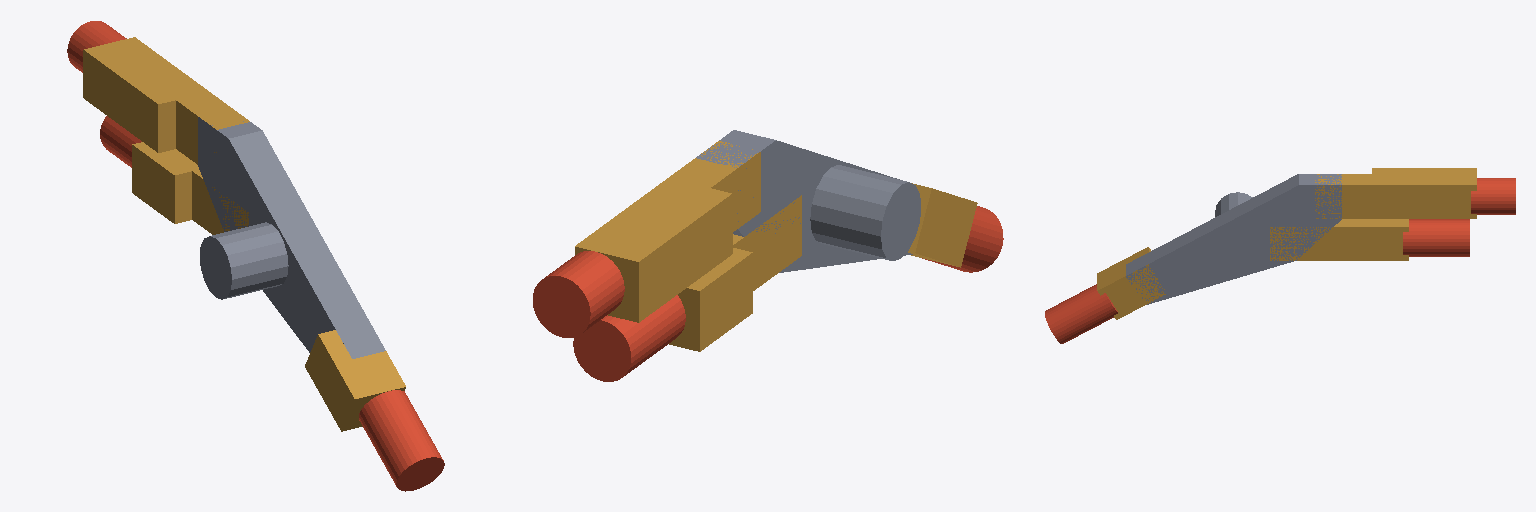
robot.urdf — g0050_c15:
<robot name="g0050_c15">
  <link name="palm">
    <visual name="palm_palm1">
      <origin xyz="0 0 0" rpy="0 0 0" />
      <geometry>
        <mesh filename="palm_palm1.obj" />
      </geometry>
      <material name="palm_palm1_mat">
        <color rgba="0.55 0.57 0.62 1" />
      </material>
    </visual>
    <collision>
      <origin xyz="0 0 0" rpy="0 0 0" />
      <geometry>
        <mesh filename="palm_palm1.obj" />
      </geometry>
    </collision>
    <visual name="palm_mount2">
      <origin xyz="0 0 0" rpy="0 0 0" />
      <geometry>
        <mesh filename="palm_mount2.obj" />
      </geometry>
      <material name="palm_mount2_mat">
        <color rgba="0.55 0.57 0.62 1" />
      </material>
    </visual>
    <collision>
      <origin xyz="0 0 0" rpy="0 0 0" />
      <geometry>
        <mesh filename="palm_mount2.obj" />
      </geometry>
    </collision>
    <visual name="palm_motor3">
      <origin xyz="0 -0.0735048095 -0.03625" rpy="1.57079633 -1.04719755 -1.57079633" />
      <geometry>
        <box size="0.029 0.034 0.02" />
      </geometry>
      <material name="palm_motor3_mat">
        <color rgba="0.15 0.15 0.17 1" />
      </material>
    </visual>
    <collision>
      <origin xyz="0 -0.0735048095 -0.03625" rpy="1.57079633 -1.04719755 -1.57079633" />
      <geometry>
        <box size="0.029 0.034 0.02" />
      </geometry>
    </collision>
    <visual name="palm_motor4">
      <origin xyz="0 0.0325 -4.5924255e-19" rpy="-3.14159265 1.57079633 0" />
      <geometry>
        <box size="0.029 0.034 0.02" />
      </geometry>
      <material name="palm_motor4_mat">
        <color rgba="0.15 0.15 0.17 1" />
      </material>
    </visual>
    <collision>
      <origin xyz="0 0.0325 -4.5924255e-19" rpy="-3.14159265 1.57079633 0" />
      <geometry>
        <box size="0.029 0.034 0.02" />
      </geometry>
    </collision>
    <visual name="palm_motor5">
      <origin xyz="0 0.0725 0.04" rpy="-3.14159265 1.57079633 0" />
      <geometry>
        <box size="0.029 0.034 0.02" />
      </geometry>
      <material name="palm_motor5_mat">
        <color rgba="0.15 0.15 0.17 1" />
      </material>
    </visual>
    <collision>
      <origin xyz="0 0.0725 0.04" rpy="-3.14159265 1.57079633 0" />
      <geometry>
        <box size="0.029 0.034 0.02" />
      </geometry>
    </collision>
    <inertial>
      <origin xyz="3.01368256e-19 0.0059346365 -0.000754145651" rpy="1.57079633 -0.463713372 1.57079633" />
      <mass value="0.409882712" />
      <inertia ixx="0.000109388022" ixy="0" ixz="0" iyy="0.00122623685" iyz="0" izz="0.00129627613" />
    </inertial>
  </link>
  <link name="f0_link0">
    <visual name="f0_link0_link1">
      <origin xyz="0.014 -0.00625 -4.33680869e-18" rpy="0 -3.98552134e-18 0" />
      <geometry>
        <box size="0.052 0.0365 0.033" />
      </geometry>
      <material name="f0_link0_link1_mat">
        <color rgba="0.80 0.62 0.30 1" />
      </material>
    </visual>
    <collision>
      <origin xyz="0.014 -0.00625 -4.33680869e-18" rpy="0 -3.98552134e-18 0" />
      <geometry>
        <box size="0.052 0.0365 0.033" />
      </geometry>
    </collision>
    <inertial>
      <origin xyz="0.014 -0.00625 0" rpy="0 0 0" />
      <mass value="0.1096095" />
      <inertia ixx="2.21160002e-05" ixy="0" ixz="0" iyy="3.46457361e-05" iyz="0" izz="3.6867612e-05" />
    </inertial>
  </link>
  <link name="f0_link1">
    <visual name="f0_link1_link1">
      <origin xyz="0.034 0 -9.54097912e-18" rpy="-1.57079633 -0 -1.57079633" />
      <geometry>
        <cylinder radius="0.0165" length="0.059" />
      </geometry>
      <material name="f0_link1_link1_mat">
        <color rgba="0.85 0.35 0.25 1" />
      </material>
    </visual>
    <collision>
      <origin xyz="0.034 0 -9.54097912e-18" rpy="-1.57079633 -0 -1.57079633" />
      <geometry>
        <cylinder radius="0.0165" length="0.059" />
      </geometry>
    </collision>
    <inertial>
      <origin xyz="0.034 0 0" rpy="0 0 0" />
      <mass value="0.121238577" />
      <inertia ixx="1.56071093e-05" ixy="0" ixz="0" iyy="7.58912764e-05" iyz="0" izz="7.58912764e-05" />
    </inertial>
  </link>
  <link name="f1_link0">
    <visual name="f1_link0_link1">
      <origin xyz="0.03375 0 0" rpy="0 -0 0" />
      <geometry>
        <box size="0.0915 0.024 0.033" />
      </geometry>
      <material name="f1_link0_link1_mat">
        <color rgba="0.80 0.62 0.30 1" />
      </material>
    </visual>
    <collision>
      <origin xyz="0.03375 0 0" rpy="0 -0 0" />
      <geometry>
        <box size="0.0915 0.024 0.033" />
      </geometry>
    </collision>
    <inertial>
      <origin xyz="0.03375 0 0" rpy="0 0 0" />
      <mass value="0.126819" />
      <inertia ixx="1.75961363e-05" ixy="0" ixz="0" iyy="9.99888553e-05" iyz="0" izz="9.45673431e-05" />
    </inertial>
  </link>
  <link name="f1_link1">
    <visual name="f1_link1_link1">
      <origin xyz="0.014 -0.00625 -1.54074396e-33" rpy="0 -0 0" />
      <geometry>
        <box size="0.052 0.0365 0.033" />
      </geometry>
      <material name="f1_link1_link1_mat">
        <color rgba="0.80 0.62 0.30 1" />
      </material>
    </visual>
    <collision>
      <origin xyz="0.014 -0.00625 -1.54074396e-33" rpy="0 -0 0" />
      <geometry>
        <box size="0.052 0.0365 0.033" />
      </geometry>
    </collision>
    <inertial>
      <origin xyz="0.014 -0.00625 0" rpy="0 0 0" />
      <mass value="0.1096095" />
      <inertia ixx="2.21160002e-05" ixy="0" ixz="0" iyy="3.46457361e-05" iyz="0" izz="3.6867612e-05" />
    </inertial>
  </link>
  <link name="f1_link2">
    <visual name="f1_link2_link1">
      <origin xyz="0.034 0 -1.92592994e-33" rpy="-1.57079633 -0 -1.57079633" />
      <geometry>
        <cylinder radius="0.0165" length="0.059" />
      </geometry>
      <material name="f1_link2_link1_mat">
        <color rgba="0.85 0.35 0.25 1" />
      </material>
    </visual>
    <collision>
      <origin xyz="0.034 0 -1.92592994e-33" rpy="-1.57079633 -0 -1.57079633" />
      <geometry>
        <cylinder radius="0.0165" length="0.059" />
      </geometry>
    </collision>
    <inertial>
      <origin xyz="0.034 0 0" rpy="0 0 0" />
      <mass value="0.121238577" />
      <inertia ixx="1.56071093e-05" ixy="0" ixz="0" iyy="7.58912764e-05" iyz="0" izz="7.58912764e-05" />
    </inertial>
  </link>
  <link name="f2_link0">
    <visual name="f2_link0_link1">
      <origin xyz="0.02375 0 0" rpy="0 -0 0" />
      <geometry>
        <box size="0.0715 0.024 0.033" />
      </geometry>
      <material name="f2_link0_link1_mat">
        <color rgba="0.80 0.62 0.30 1" />
      </material>
    </visual>
    <collision>
      <origin xyz="0.02375 0 0" rpy="0 -0 0" />
      <geometry>
        <box size="0.0715 0.024 0.033" />
      </geometry>
    </collision>
    <inertial>
      <origin xyz="0.02375 0 0" rpy="0 0 0" />
      <mass value="0.099099" />
      <inertia ixx="1.37499863e-05" ixy="0" ixz="0" iyy="5.12114728e-05" iyz="0" izz="4.69749906e-05" />
    </inertial>
  </link>
  <link name="f2_link1">
    <visual name="f2_link1_link1">
      <origin xyz="0.014 -0.00625 0" rpy="0 -0 0" />
      <geometry>
        <box size="0.052 0.0365 0.033" />
      </geometry>
      <material name="f2_link1_link1_mat">
        <color rgba="0.80 0.62 0.30 1" />
      </material>
    </visual>
    <collision>
      <origin xyz="0.014 -0.00625 0" rpy="0 -0 0" />
      <geometry>
        <box size="0.052 0.0365 0.033" />
      </geometry>
    </collision>
    <inertial>
      <origin xyz="0.014 -0.00625 0" rpy="0 0 0" />
      <mass value="0.1096095" />
      <inertia ixx="2.21160002e-05" ixy="0" ixz="0" iyy="3.46457361e-05" iyz="0" izz="3.6867612e-05" />
    </inertial>
  </link>
  <link name="f2_link2">
    <visual name="f2_link2_link1">
      <origin xyz="0.019 -0.00625 6.9388939e-18" rpy="0 -0 0" />
      <geometry>
        <box size="0.062 0.0365 0.033" />
      </geometry>
      <material name="f2_link2_link1_mat">
        <color rgba="0.80 0.62 0.30 1" />
      </material>
    </visual>
    <collision>
      <origin xyz="0.019 -0.00625 6.9388939e-18" rpy="0 -0 0" />
      <geometry>
        <box size="0.062 0.0365 0.033" />
      </geometry>
    </collision>
    <inertial>
      <origin xyz="0.019 -0.00625 0" rpy="0 0 0" />
      <mass value="0.13068825" />
      <inertia ixx="2.63690771e-05" ixy="0" ixz="0" iyy="5.37237614e-05" iyz="0" izz="5.63729212e-05" />
    </inertial>
  </link>
  <link name="f2_link3">
    <visual name="f2_link3_link1">
      <origin xyz="0.024 0 0" rpy="-1.57079633 -0 -1.57079633" />
      <geometry>
        <cylinder radius="0.0165" length="0.039" />
      </geometry>
      <material name="f2_link3_link1_mat">
        <color rgba="0.85 0.35 0.25 1" />
      </material>
    </visual>
    <collision>
      <origin xyz="0.024 0 0" rpy="-1.57079633 -0 -1.57079633" />
      <geometry>
        <cylinder radius="0.0165" length="0.039" />
      </geometry>
    </collision>
    <inertial>
      <origin xyz="0.024 0 0" rpy="0 0 0" />
      <mass value="0.0913031255" />
      <inertia ixx="1.1532146e-05" ixy="0" ixz="0" iyy="3.54254069e-05" iyz="0" izz="3.54254069e-05" />
    </inertial>
  </link>
  <joint name="f0_j0" type="revolute">
    <parent link="palm" />
    <child link="f0_link0" />
    <origin xyz="0 -0.08 -0.04" rpy="0 0.523598776 -1.57079633" />
    <axis xyz="0 0 1" />
    <limit effort="0.5" lower="-0.523598776" upper="1.57079633" velocity="5" />
    <dynamics damping="0.0775033" friction="0" />
  </joint>
  <joint name="f0_j1" type="revolute">
    <parent link="f0_link0" />
    <child link="f0_link1" />
    <origin xyz="0.03 0 0" rpy="0 0 0" />
    <axis xyz="0 0 1" />
    <limit effort="0.5" lower="-0.523598776" upper="1.57079633" velocity="5" />
    <dynamics damping="0.0775033" friction="0" />
  </joint>
  <joint name="f1_j0" type="revolute">
    <parent link="palm" />
    <child link="f1_link0" />
    <origin xyz="0 0.04 0" rpy="-3.14159265 -6.123234e-17 1.57079633" />
    <axis xyz="0 0 1" />
    <limit effort="0.5" lower="-0.523598776" upper="1.57079633" velocity="5" />
    <dynamics damping="0.0775033" friction="0" />
  </joint>
  <joint name="f1_j1" type="revolute">
    <parent link="f1_link0" />
    <child link="f1_link1" />
    <origin xyz="0.07 0 0" rpy="0 0 0" />
    <axis xyz="0 0 1" />
    <limit effort="0.5" lower="-0.523598776" upper="1.57079633" velocity="5" />
    <dynamics damping="0.0775033" friction="0" />
  </joint>
  <joint name="f1_j2" type="revolute">
    <parent link="f1_link1" />
    <child link="f1_link2" />
    <origin xyz="0.03 0 0" rpy="0 0 0" />
    <axis xyz="0 0 1" />
    <limit effort="0.5" lower="-0.523598776" upper="1.57079633" velocity="5" />
    <dynamics damping="0.0775033" friction="0" />
  </joint>
  <joint name="f2_j0" type="revolute">
    <parent link="palm" />
    <child link="f2_link0" />
    <origin xyz="0 0.08 0.04" rpy="-3.14159265 -6.123234e-17 1.57079633" />
    <axis xyz="0 0 1" />
    <limit effort="0.5" lower="-0.523598776" upper="1.57079633" velocity="5" />
    <dynamics damping="0.0775033" friction="0" />
  </joint>
  <joint name="f2_j1" type="revolute">
    <parent link="f2_link0" />
    <child link="f2_link1" />
    <origin xyz="0.05 0 0" rpy="0 0 0" />
    <axis xyz="0 0 1" />
    <limit effort="0.5" lower="-0.523598776" upper="1.57079633" velocity="5" />
    <dynamics damping="0.0775033" friction="0" />
  </joint>
  <joint name="f2_j2" type="revolute">
    <parent link="f2_link1" />
    <child link="f2_link2" />
    <origin xyz="0.03 0 0" rpy="0 0 0" />
    <axis xyz="0 0 1" />
    <limit effort="0.5" lower="-0.523598776" upper="1.57079633" velocity="5" />
    <dynamics damping="0.0775033" friction="0" />
  </joint>
  <joint name="f2_j3" type="revolute">
    <parent link="f2_link2" />
    <child link="f2_link3" />
    <origin xyz="0.04 0 0" rpy="0 0 0" />
    <axis xyz="0 0 1" />
    <limit effort="0.5" lower="-0.523598776" upper="1.57079633" velocity="5" />
    <dynamics damping="0.0775033" friction="0" />
  </joint>
</robot>

--- Render facts (derived) ---
Views: 3 orthographic renders of the robot side by side, from view 1: azimuth 30°, elevation 25°; view 2: azimuth 150°, elevation 25°; view 3: azimuth 270°, elevation 25°.
Robot: g0050_c15 — 10 links, 9 joints (9 revolute); root link palm; default pose: all joints at 0.
Visible links, largest first — view 1: palm, f0_link0, f0_link1, f2_link1, f1_link1, f2_link2, f2_link0, f1_link0, f2_link3, f1_link2; view 2: palm, f2_link2, f2_link3, f2_link1, f1_link2, f1_link1, f0_link0, f2_link0, f1_link0, f0_link1; view 3: palm, f1_link0, f2_link0, f2_link2, f1_link2, f0_link1, f0_link0, f2_link1, f2_link3, f1_link1.
Link boxes in pixels (box(x1,y1,x2,y2)): palm: box(198, 117, 385, 358); f0_link0: box(305, 330, 405, 431); f0_link1: box(359, 390, 444, 491); f2_link1: box(116, 61, 191, 152); f1_link1: box(132, 142, 196, 223); f2_link2: box(83, 37, 182, 121); f2_link0: box(159, 79, 249, 164); f1_link0: box(175, 156, 248, 234); f2_link3: box(67, 21, 126, 72); f1_link2: box(100, 116, 141, 167); palm: box(696, 130, 920, 272); f2_link2: box(575, 201, 701, 322); f2_link3: box(533, 251, 624, 337); f2_link1: box(615, 178, 732, 292); f1_link2: box(573, 295, 685, 381); f1_link1: box(669, 248, 752, 351); f0_link0: box(908, 183, 977, 267); f2_link0: box(648, 141, 760, 231); f1_link0: box(733, 195, 801, 290); f0_link1: box(922, 206, 1003, 272); palm: box(1126, 174, 1341, 304); f1_link0: box(1270, 219, 1373, 260); f2_link0: box(1315, 174, 1396, 218); f2_link2: box(1407, 168, 1476, 218); f1_link2: box(1403, 219, 1469, 256); f0_link1: box(1045, 284, 1117, 343); f0_link0: box(1097, 247, 1165, 319); f2_link1: box(1372, 168, 1431, 218); f2_link3: box(1471, 178, 1515, 214); f1_link1: box(1349, 219, 1408, 260).
Size in the robot's own frame: 0.0685 by 0.4127 by 0.1575 metres.
Meshes: 2 distinct files referenced, 2 mesh visuals loaded (2 OBJ).
